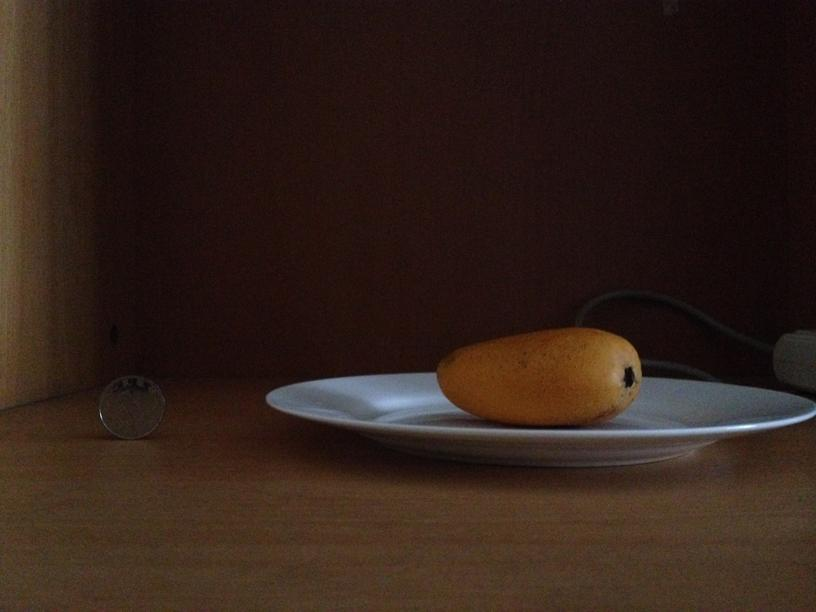coin: (99, 374, 166, 440)
mango: (434, 327, 640, 427)
